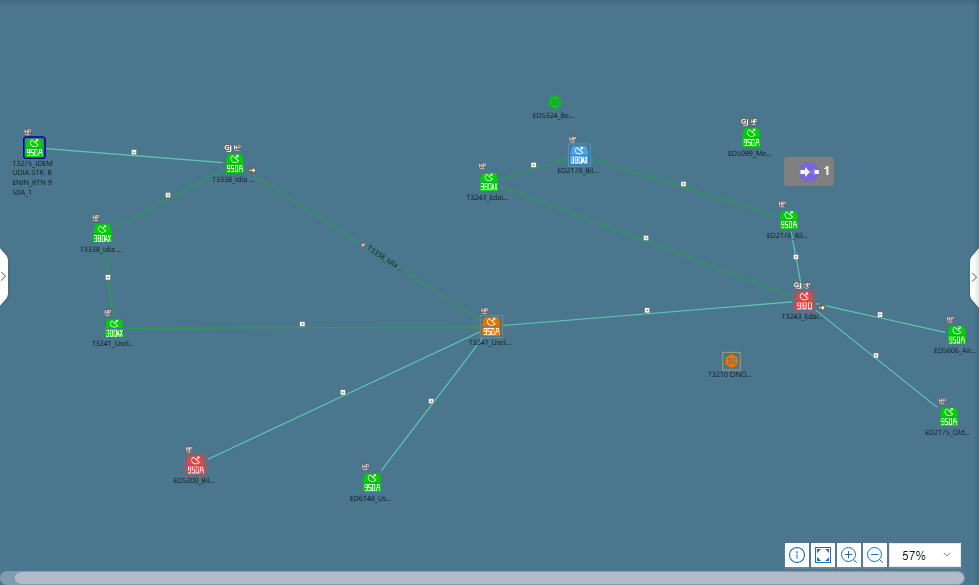Link_Blue: (213, 332, 470, 456), (376, 338, 485, 470), (817, 308, 936, 410), (505, 302, 748, 331), (823, 302, 950, 337), (90, 149, 228, 166), (792, 259, 800, 280)
Link_Green: (248, 167, 474, 315), (508, 185, 791, 300), (590, 155, 777, 221), (113, 167, 220, 224), (499, 155, 571, 184), (101, 247, 118, 319)
RTN_Gray: (566, 143, 587, 164)
RTN_Green: (939, 406, 962, 429), (945, 326, 968, 349), (223, 155, 246, 178), (21, 136, 44, 158), (780, 210, 797, 233), (480, 173, 497, 196), (364, 473, 379, 496), (95, 222, 110, 245), (107, 320, 124, 337), (743, 130, 759, 146)
RTN_Orange: (480, 314, 503, 335)
RTN_Red: (187, 455, 210, 478), (792, 289, 814, 311)
